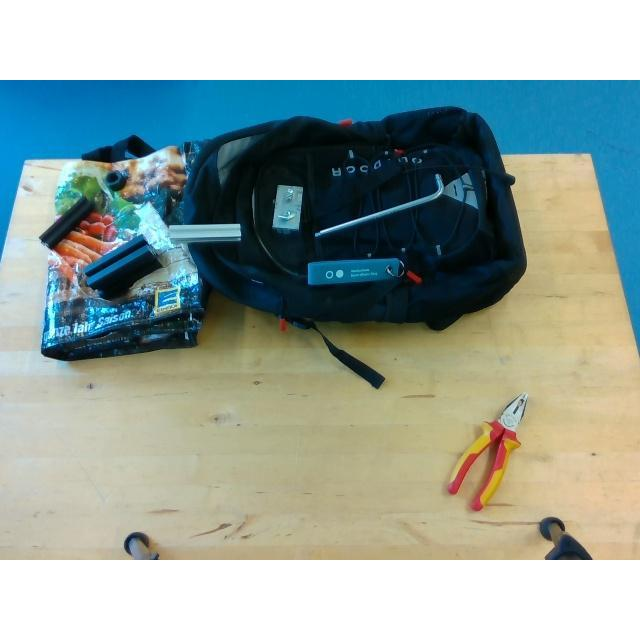AllenKey: (312, 172, 443, 238)
F20_20_B: (37, 196, 94, 248)
F20_20_G: (170, 223, 242, 244)
M20: (104, 170, 125, 192)
S40_40_B: (81, 235, 162, 298)
